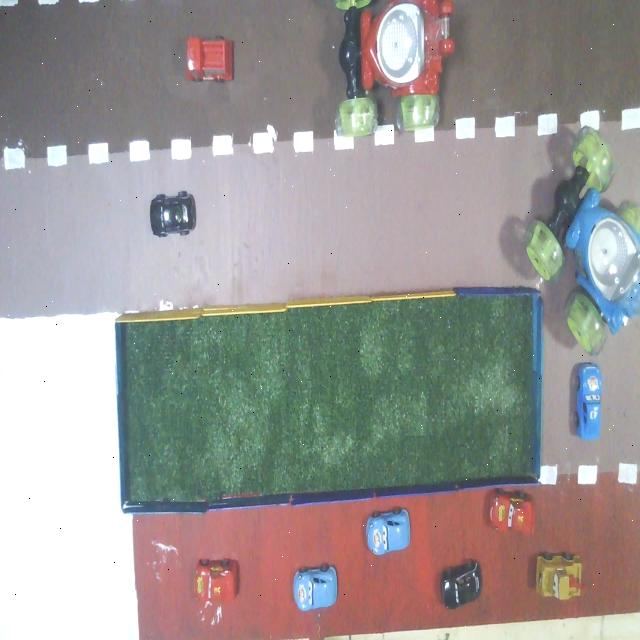driver car f: (526, 127, 639, 354)
small cars: (536, 552, 584, 600), (365, 508, 411, 556), (489, 488, 535, 534), (293, 564, 338, 611), (440, 560, 483, 609), (150, 191, 196, 236), (187, 37, 233, 81), (195, 558, 239, 604), (578, 363, 601, 436)
